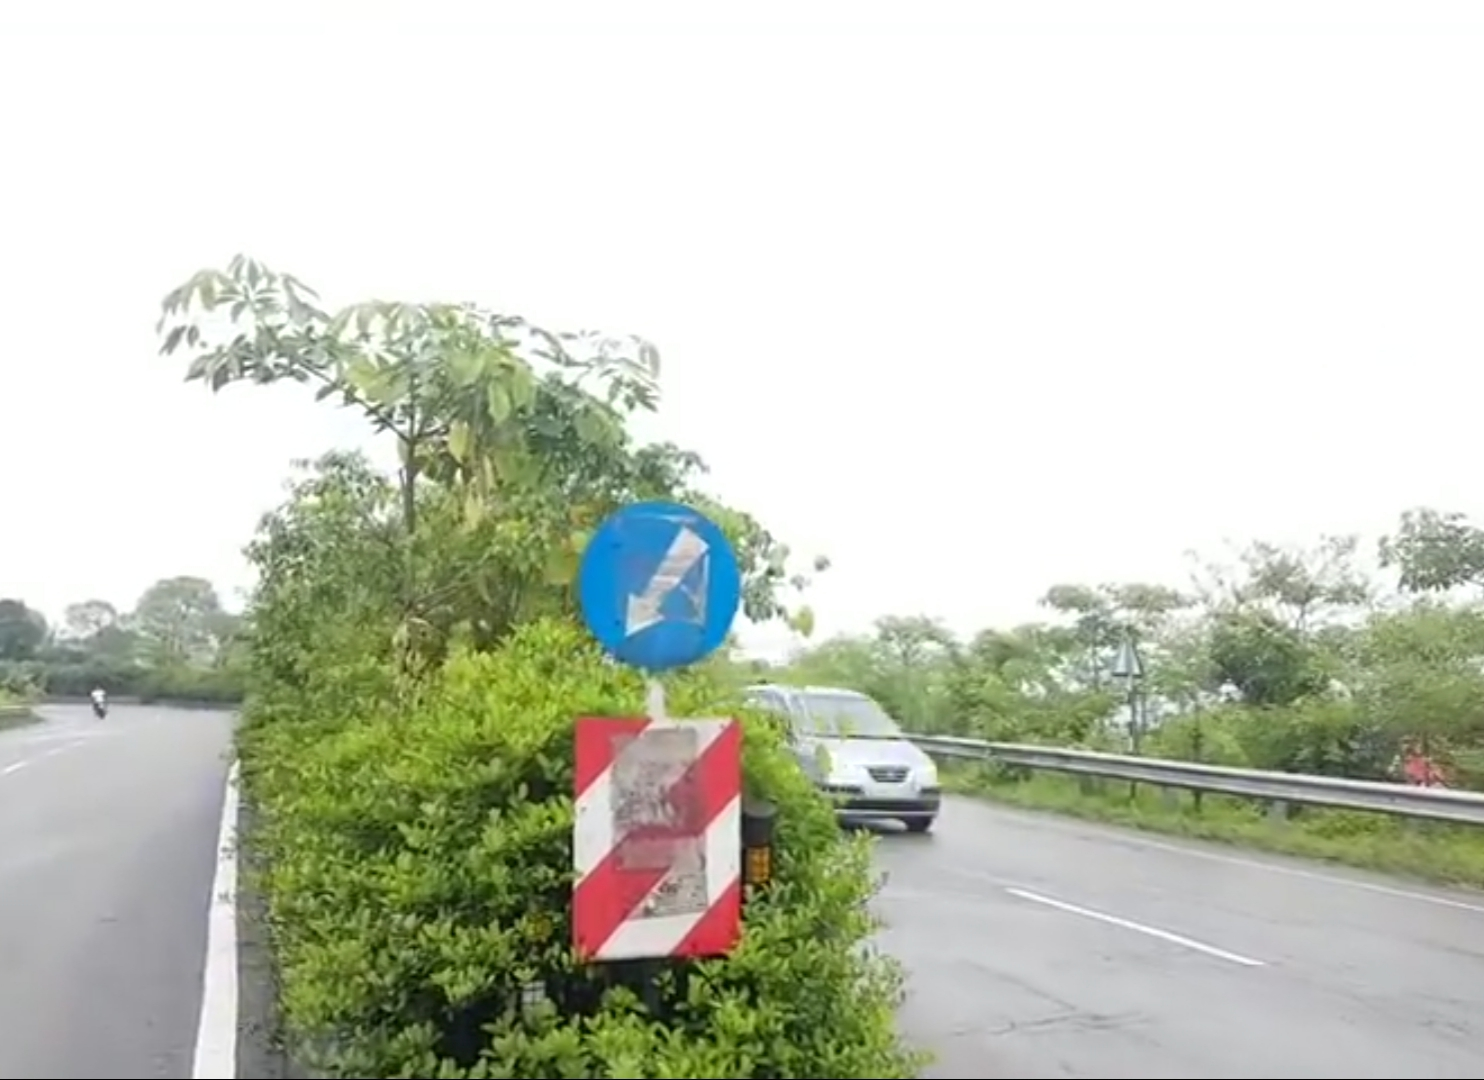traffic_sign: (576, 505, 741, 670)
